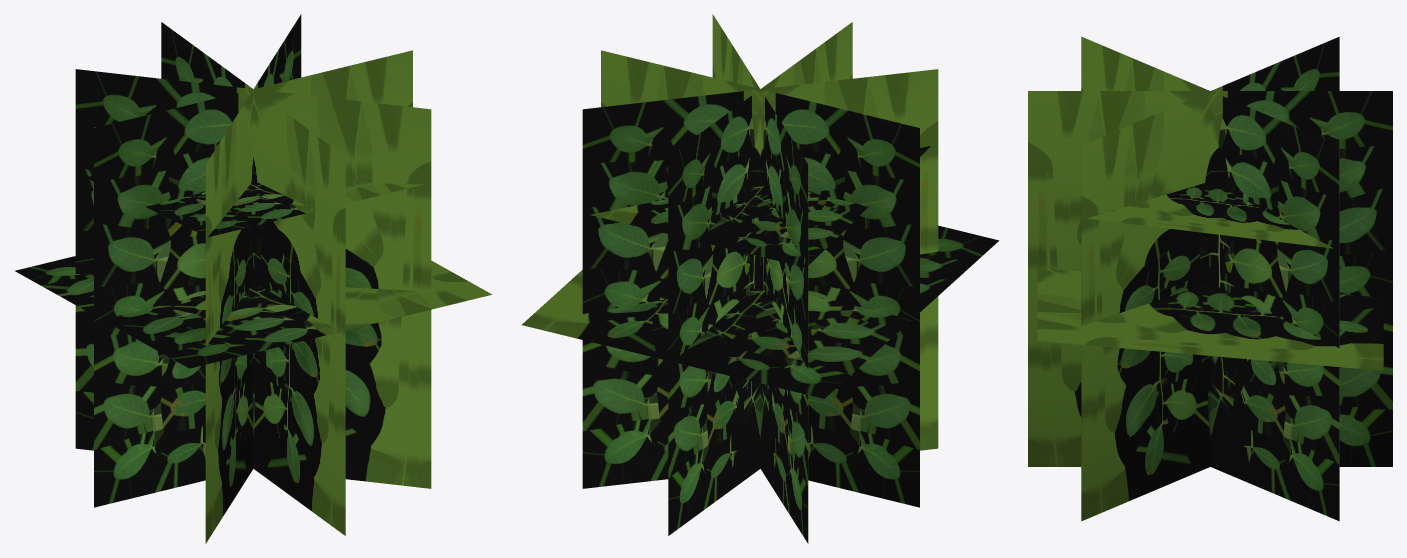
Rendered from tree_small_02_impostor.glb.
3 renders of one model, left to right at view 1: azimuth 30°, elevation 25°; view 2: azimuth 150°, elevation 25°; view 3: azimuth 270°, elevation 25°, orthographic.
Parts seen in each view (by area): view 1: RootNode; view 2: RootNode; view 3: RootNode.
Boxes of the visible parts, x1,y1,x2,y2 form: RootNode: (15, 14, 491, 543); RootNode: (522, 14, 999, 543); RootNode: (1028, 36, 1392, 521).
Bounding box in the file's own units: 0.88 × 1 × 0.88.
1 material, 1 textured.
